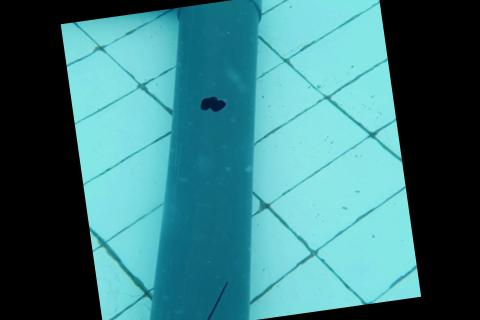kebocoran: (195, 92, 226, 113)
keretakan: (159, 280, 232, 320)
